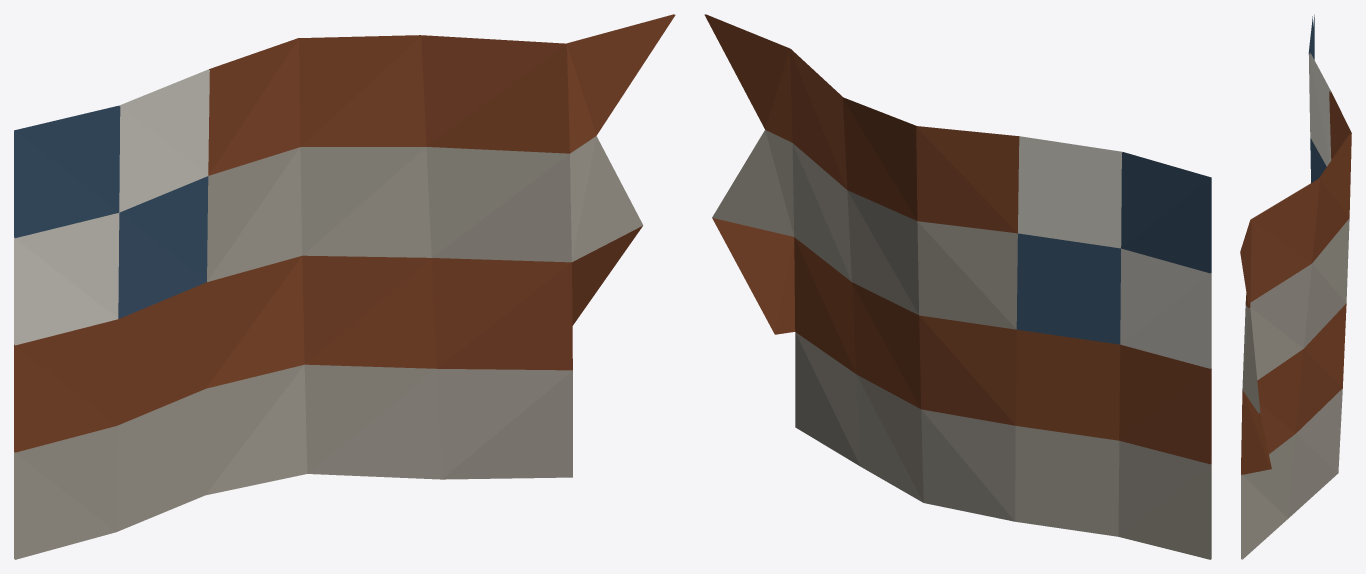
File: flag_torn_f1.glb
3 views of the same model, side by side, from view 1: azimuth 30°, elevation 25°; view 2: azimuth 150°, elevation 25°; view 3: azimuth 270°, elevation 25° (orthographic). The views are drawn at different scales.
Parts seen in each view (by area): view 1: flag_torn_f1; view 2: flag_torn_f1; view 3: flag_torn_f1.
Part boxes in pixels (x1=…): flag_torn_f1: x1=14, y1=14, x2=675, y2=559; flag_torn_f1: x1=704, y1=14, x2=1211, y2=559; flag_torn_f1: x1=1240, y1=14, x2=1351, y2=559.
Size of the model in its own units: 1.5 by 1.03 by 0.2975.
Materials: 3 (3 with a texture image).
